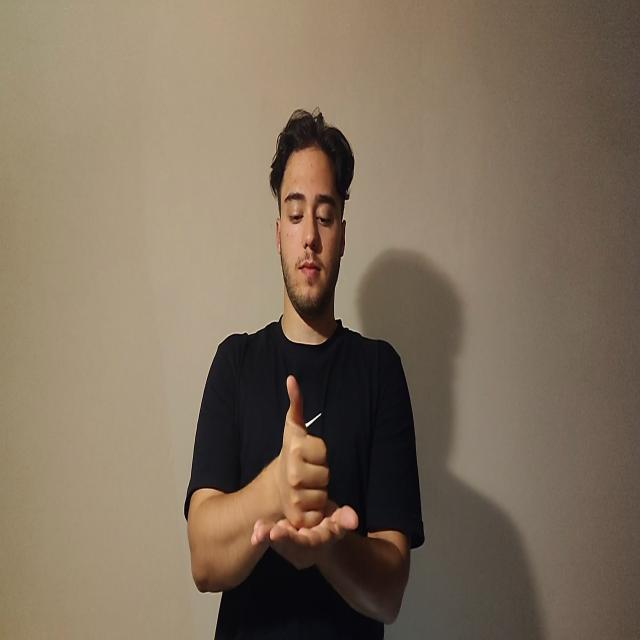help: (253, 372, 359, 572)
